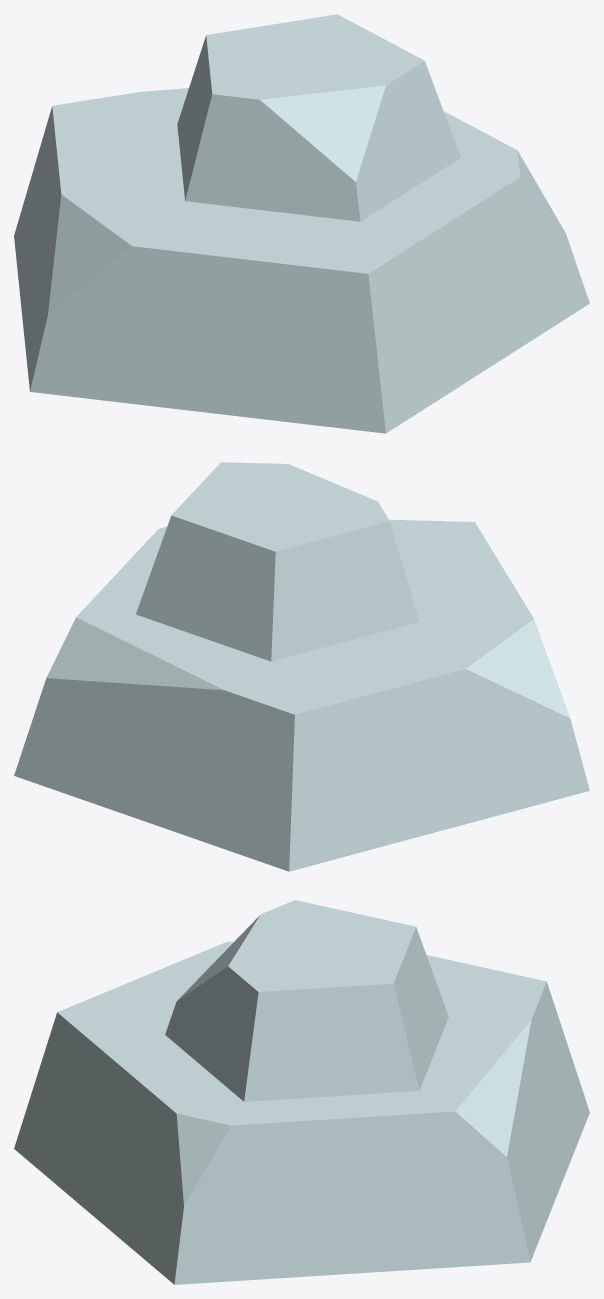
Rendered from stone_smallTop1.glb.
3 renders of one model, top to bottom at view 1: azimuth 30°, elevation 25°; view 2: azimuth 150°, elevation 25°; view 3: azimuth 270°, elevation 25°, orthographic. The views are drawn at different scales.
Parts seen in each view (by area): view 1: stone_smallTop1; view 2: stone_smallTop1; view 3: stone_smallTop1.
Part boxes in pixels (box(x1,y1,x2,y2)): stone_smallTop1: box(14, 14, 589, 433); stone_smallTop1: box(14, 462, 589, 871); stone_smallTop1: box(14, 900, 589, 1284).
Bounding box in the file's own units: 0.4877 × 0.22 × 0.4891.
